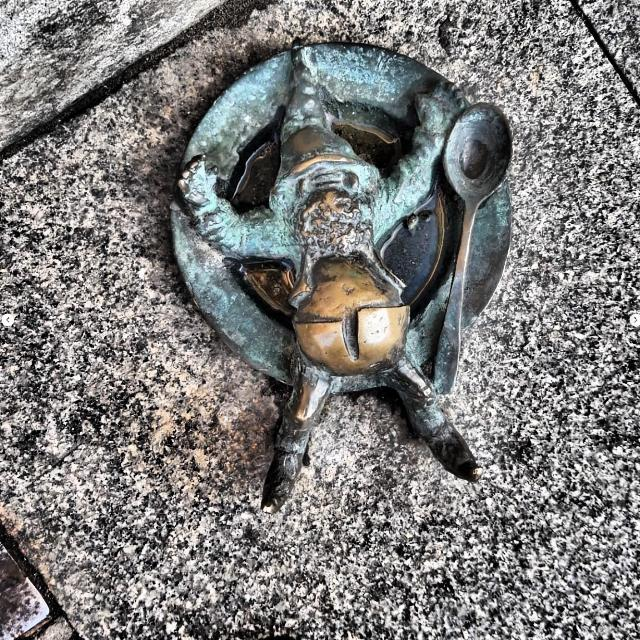Obiezysmak: (171, 43, 513, 512)
